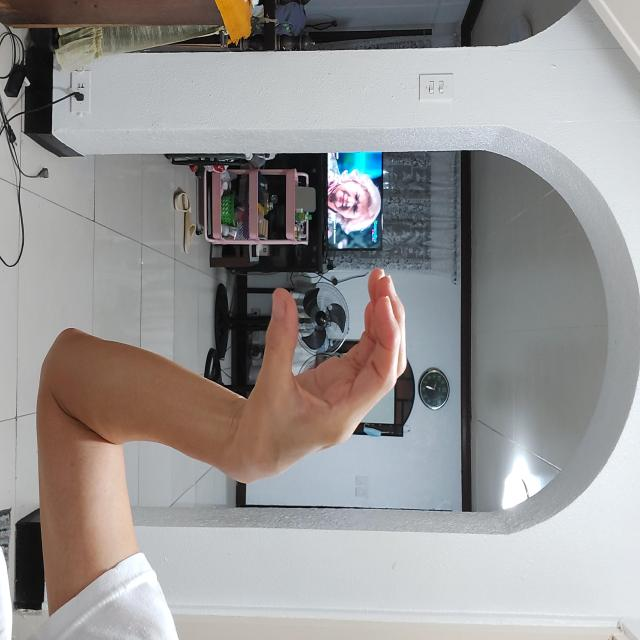C: (268, 234, 484, 411)
